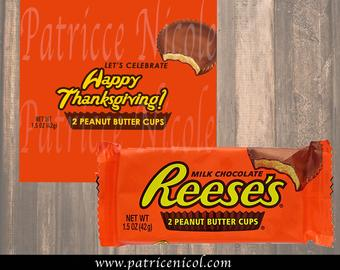reese: (97, 146, 332, 246)
